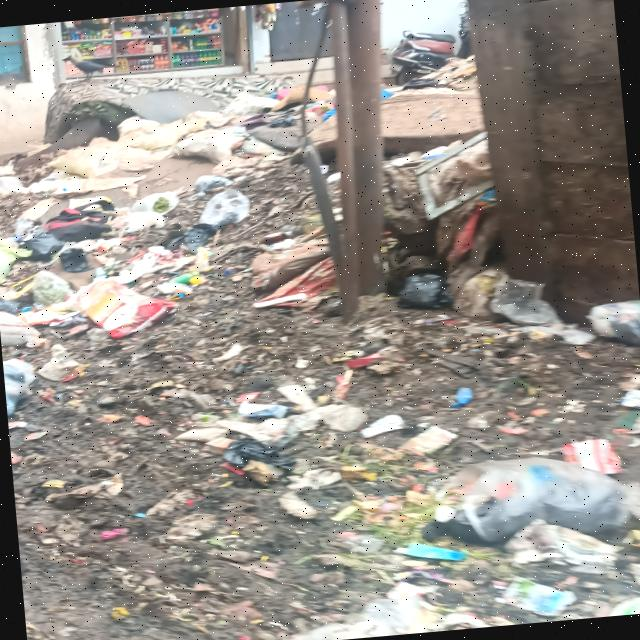garbage: (227, 365, 640, 640), (0, 169, 259, 392), (258, 140, 509, 338)
